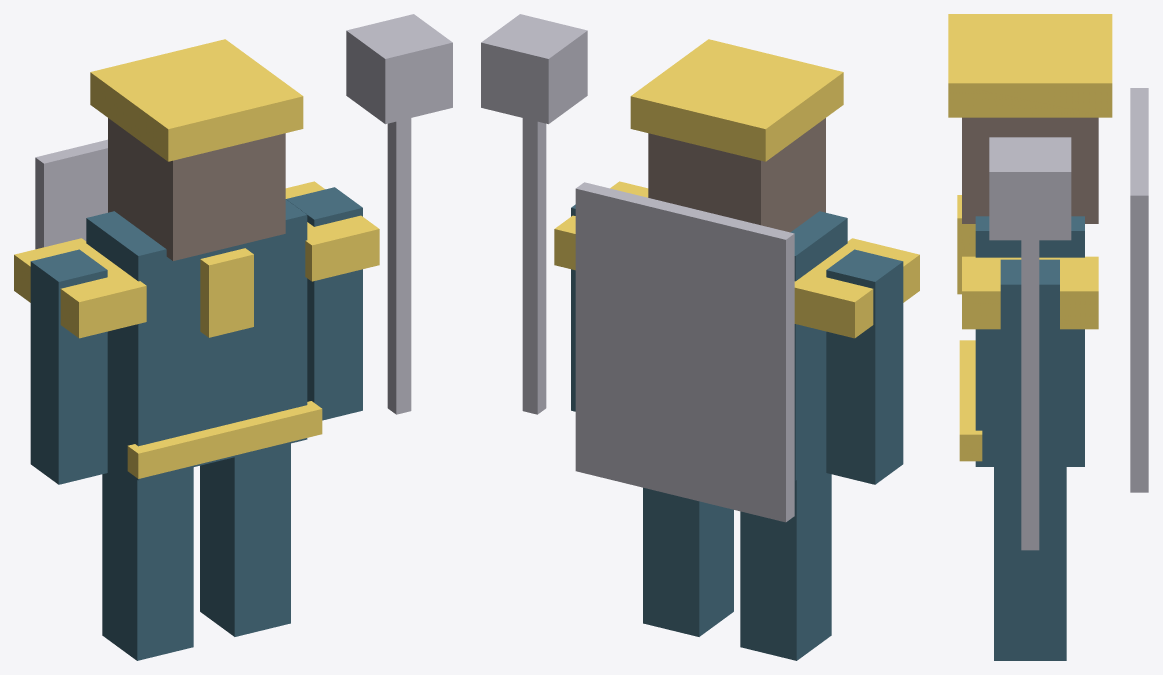
The model's file is 11_talia_spirebound_cartographer_of_main.glb.
3 renders of one model, left to right at view 1: azimuth 30°, elevation 25°; view 2: azimuth 150°, elevation 25°; view 3: azimuth 270°, elevation 25°, orthographic. The views are drawn at different scales.
Parts seen in each view (by area): view 1: Talia Spirebound, Cartographer of Main; view 2: Talia Spirebound, Cartographer of Main; view 3: Talia Spirebound, Cartographer of Main.
Part boxes in pixels (box(x1,y1,x2,y2)): Talia Spirebound, Cartographer of Main: box(14, 14, 452, 660); Talia Spirebound, Cartographer of Main: box(481, 14, 919, 660); Talia Spirebound, Cartographer of Main: box(948, 14, 1148, 660).
Size of the model in its own units: 1.05 by 1.41 by 0.4474.
